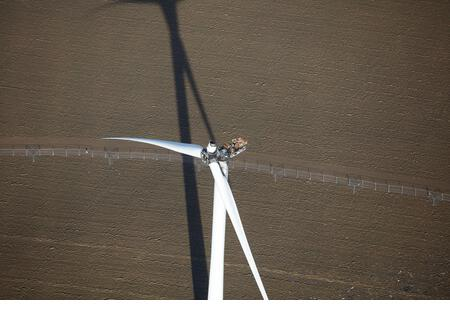faulty: (99, 125, 285, 249)
